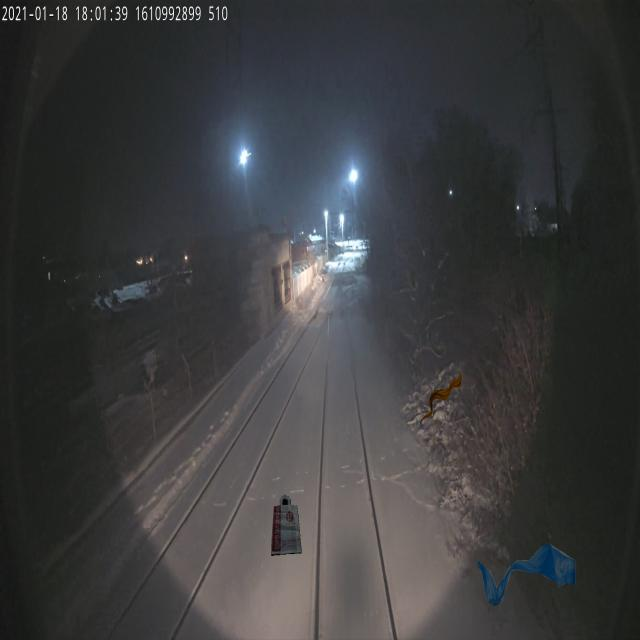floating object: (478, 543, 576, 607), (418, 366, 462, 430)
plastic bag: (270, 492, 302, 556)
